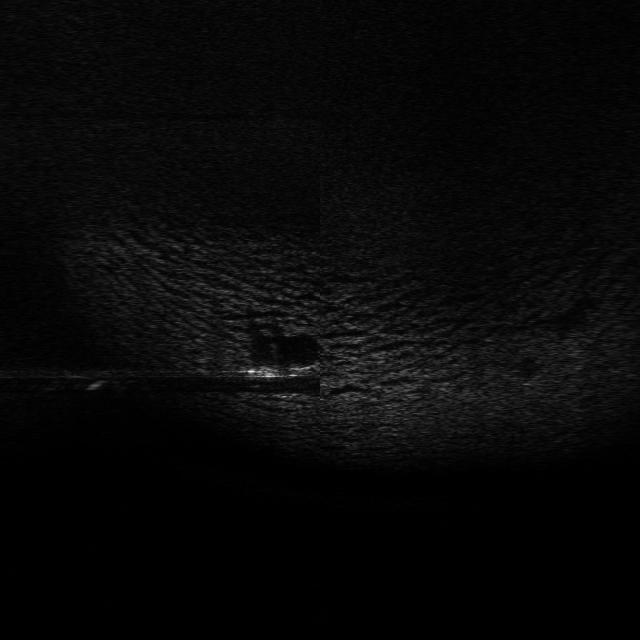plane: (244, 359, 324, 387)
